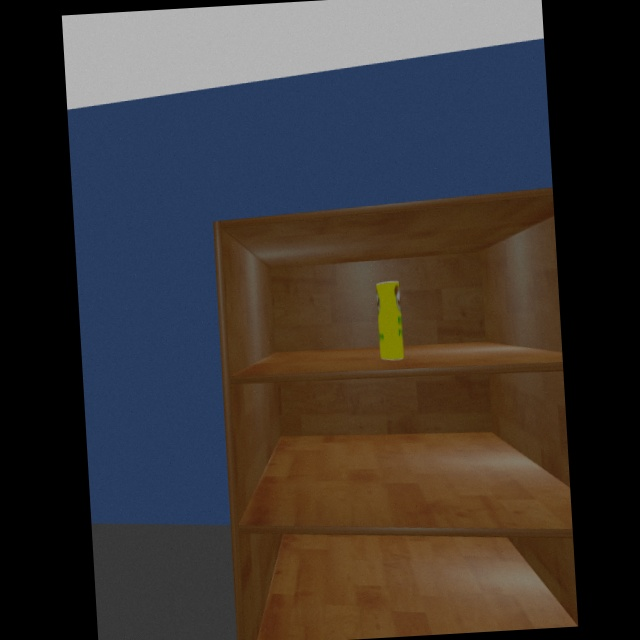chipsdose_gelb: (375, 280, 404, 360)
